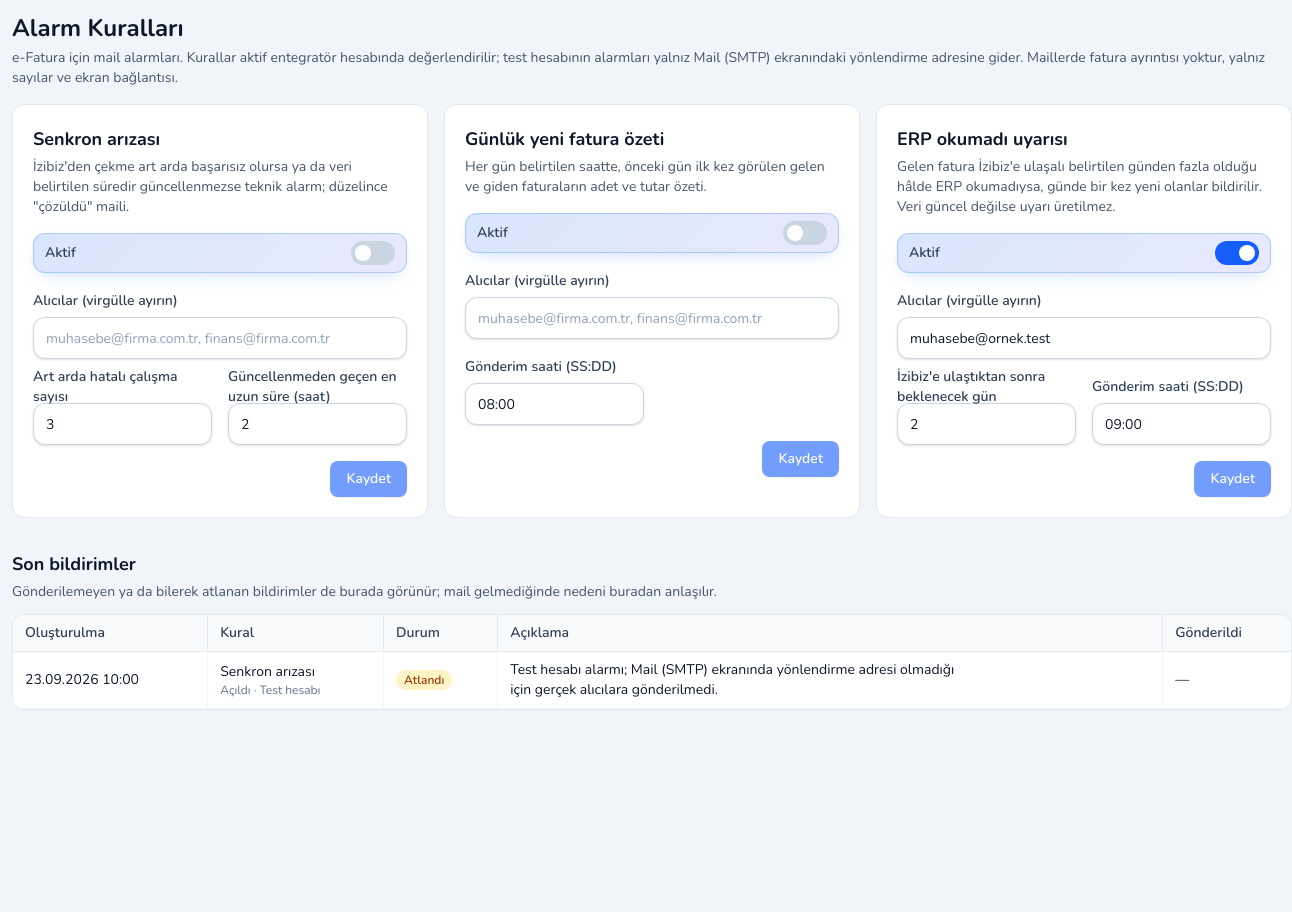
Scenario: AlarmKurallariPage › aktif kuralı alıcısız ve hatalı saatle kaydetmez
Click the switch named "Aktif" below "Günlük yeni fatura özeti" at (805, 233), box [783,221,827,245]
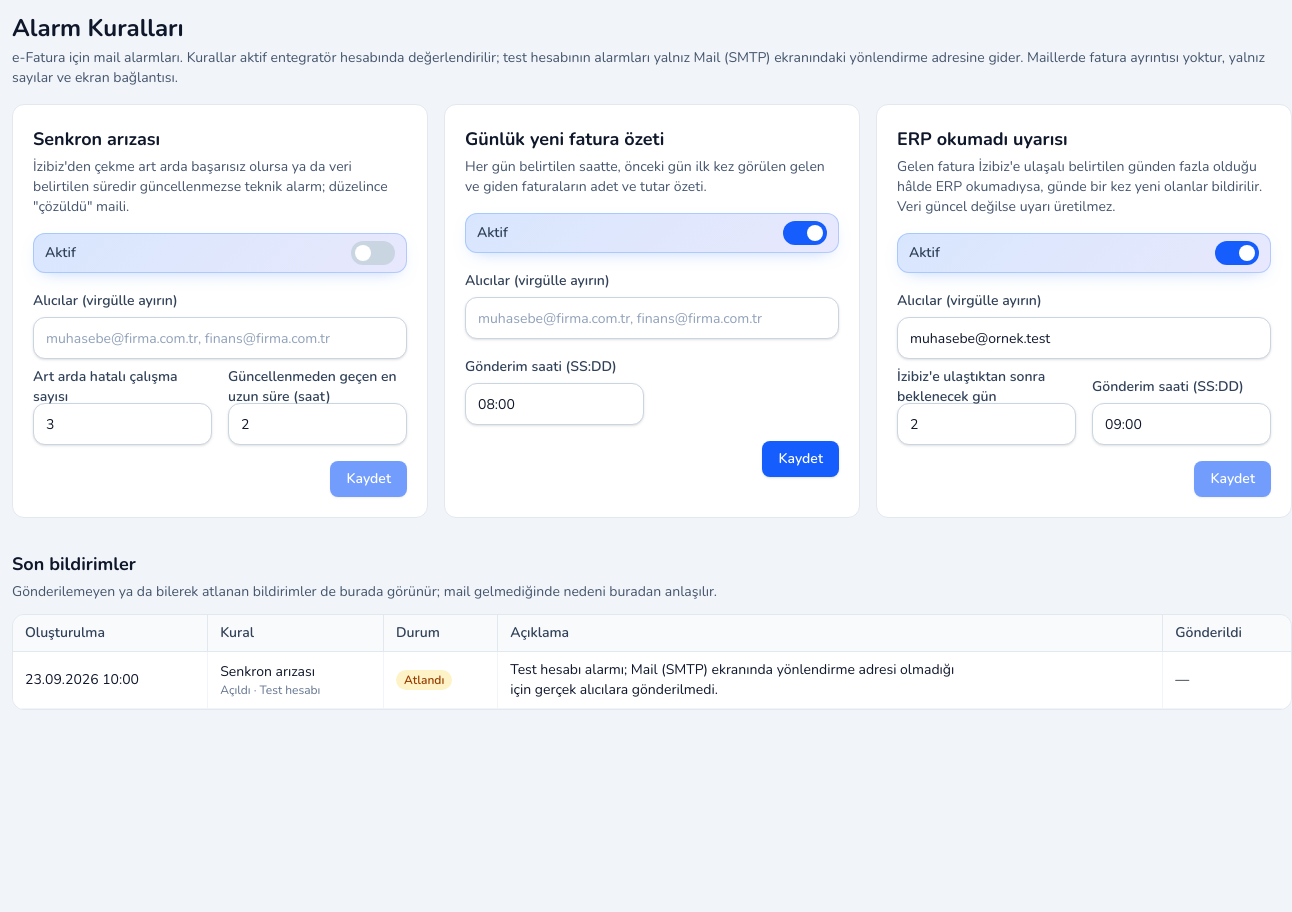
Type "8:5" into the field labelled "Gönderim saati (SS:DD)" below "Günlük yeni fatura özeti" at (554, 404), box [465,383,644,425]
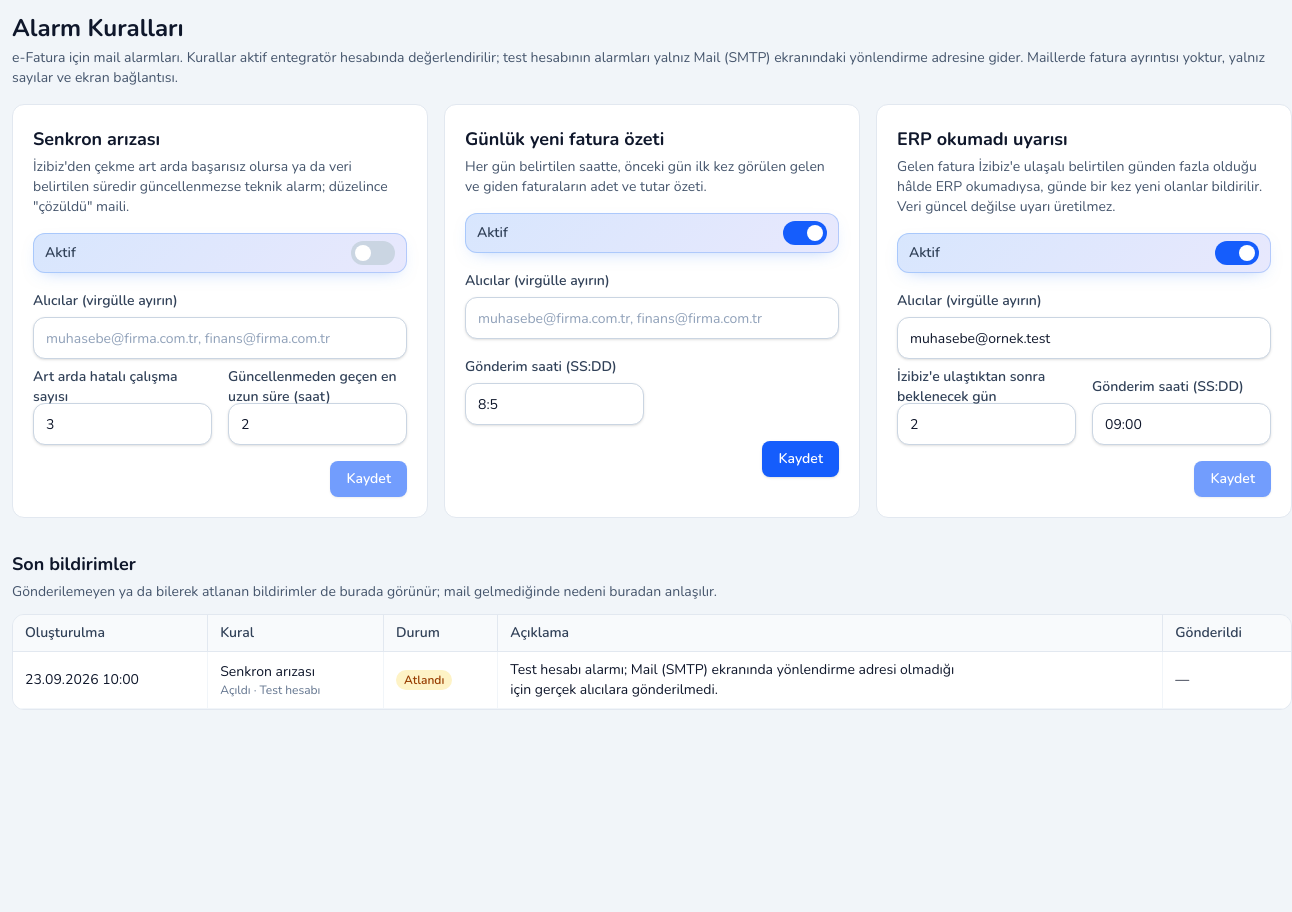
Click the button "Kaydet" below "Günlük yeni fatura özeti" at (801, 459), box [762,441,839,477]
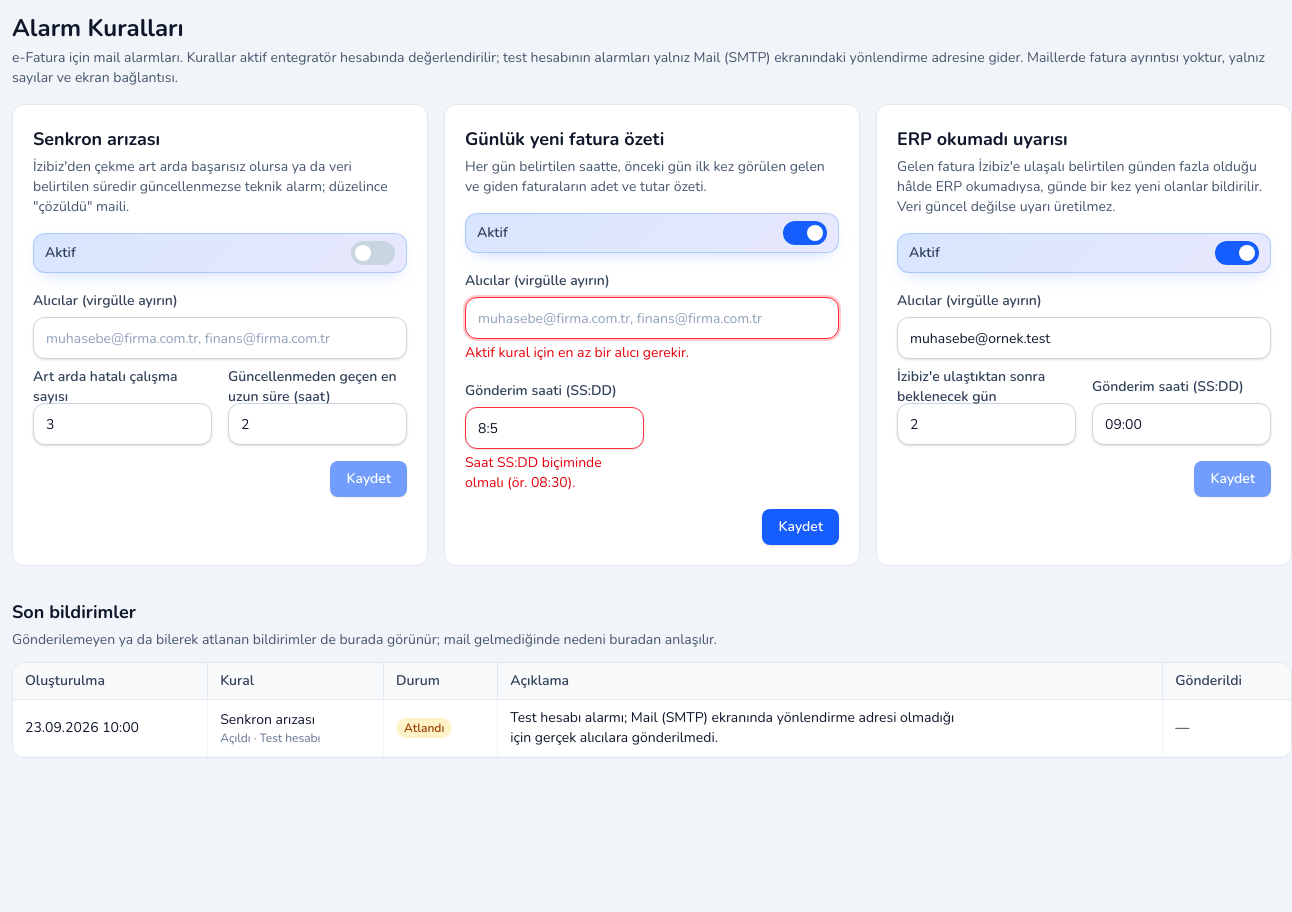
Expected: the text "Aktif kural için en az bir alıcı gerekir." is shown, [465,343,689,362]
Expected: the text "Saat SS:DD biçiminde olmalı (ör. 08:30)." is shown, [465,453,602,492]
